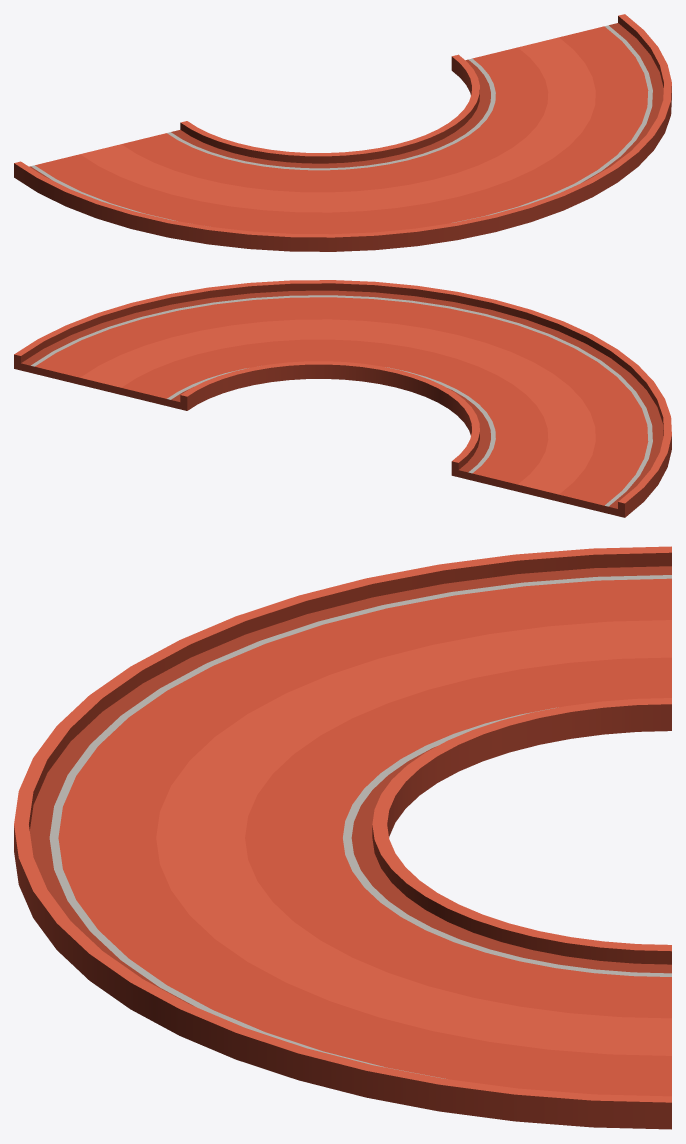
File: Yellow-3Race-UTurn-01.FBX
3 renders of one model, top to bottom at view 1: azimuth 30°, elevation 25°; view 2: azimuth 150°, elevation 25°; view 3: azimuth 270°, elevation 25°, orthographic. The views are drawn at different scales.
Parts seen in each view (by area): view 1: Yellow-3Race-UTurn-01; view 2: Yellow-3Race-UTurn-01; view 3: Yellow-3Race-UTurn-01.
Part boxes in pixels (x1,y1,x2,y2): Yellow-3Race-UTurn-01: (14,14,671,251); Yellow-3Race-UTurn-01: (14,280,671,517); Yellow-3Race-UTurn-01: (14,546,671,1129).
Size of the model in its own units: 4443 by 100 by 2222.
